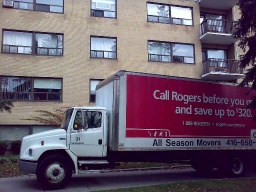truck: (19, 69, 256, 186)
